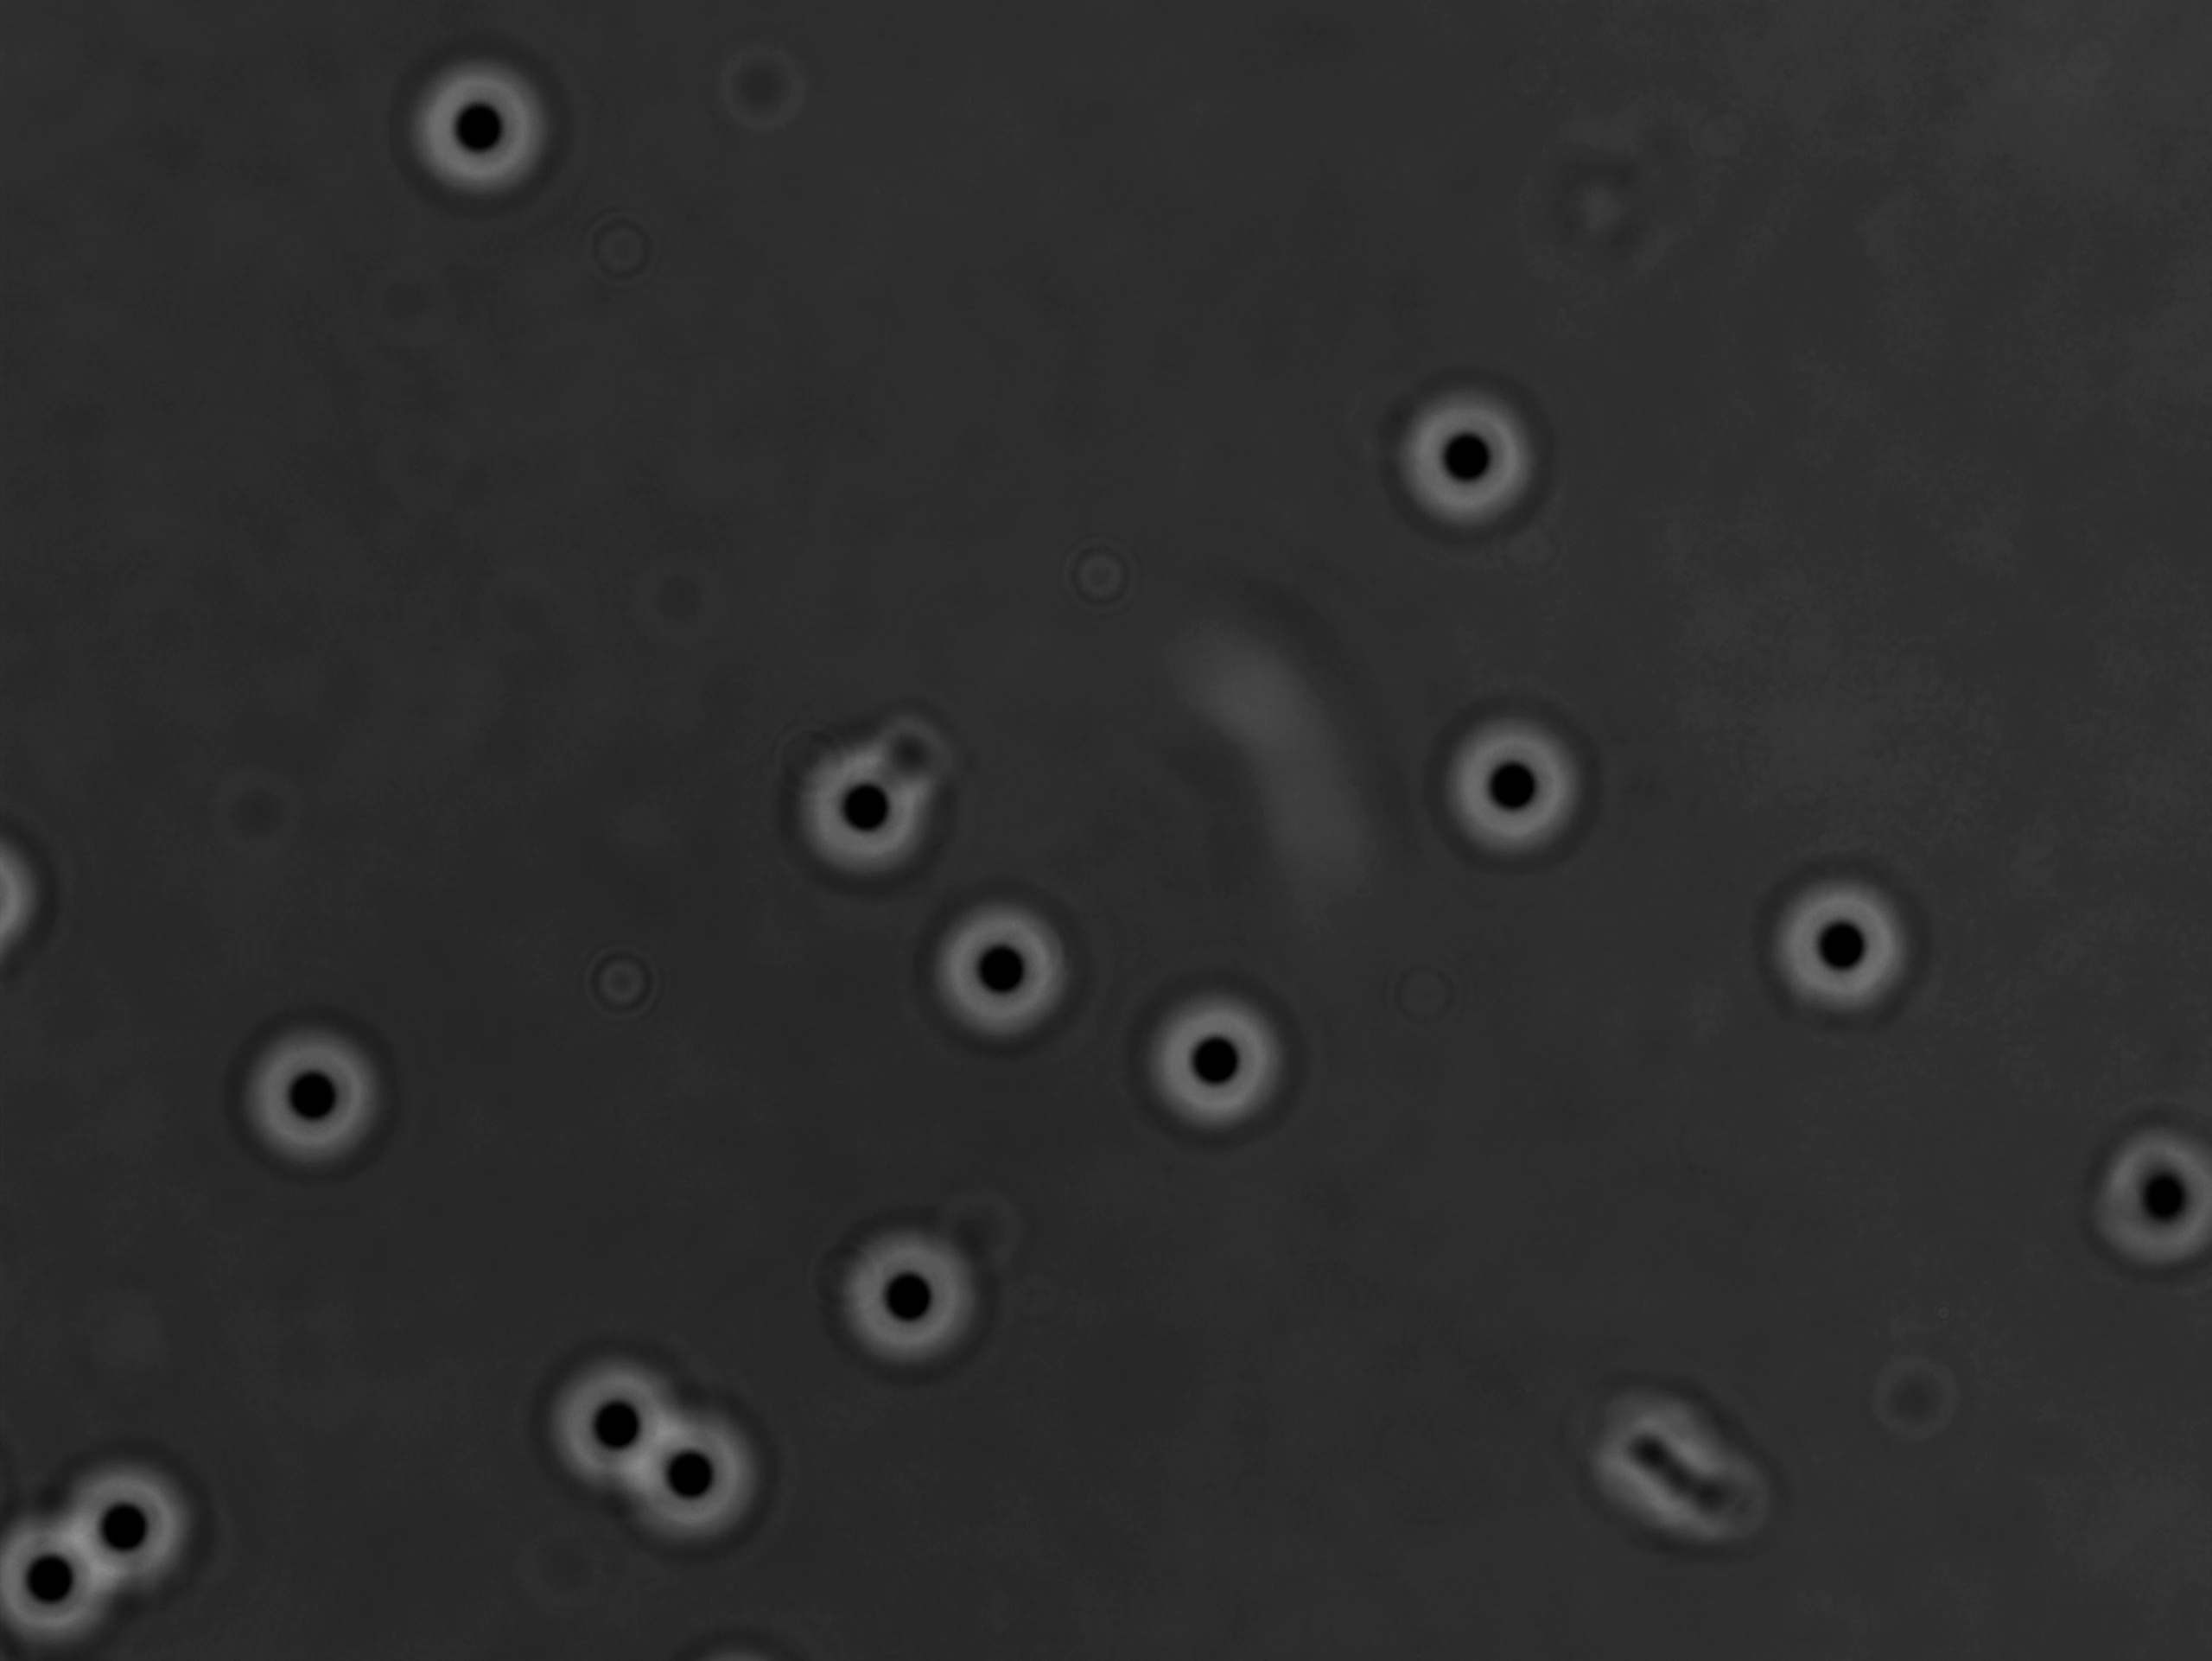depth:-40: (1423, 684, 1622, 865), (766, 712, 952, 888), (1750, 855, 1931, 1033), (1371, 366, 1556, 539), (1118, 979, 1307, 1148), (227, 1005, 403, 1176), (911, 899, 1096, 1056), (822, 1214, 994, 1380), (40, 1457, 206, 1617), (534, 1345, 694, 1504), (405, 45, 567, 201), (618, 1401, 775, 1555)
